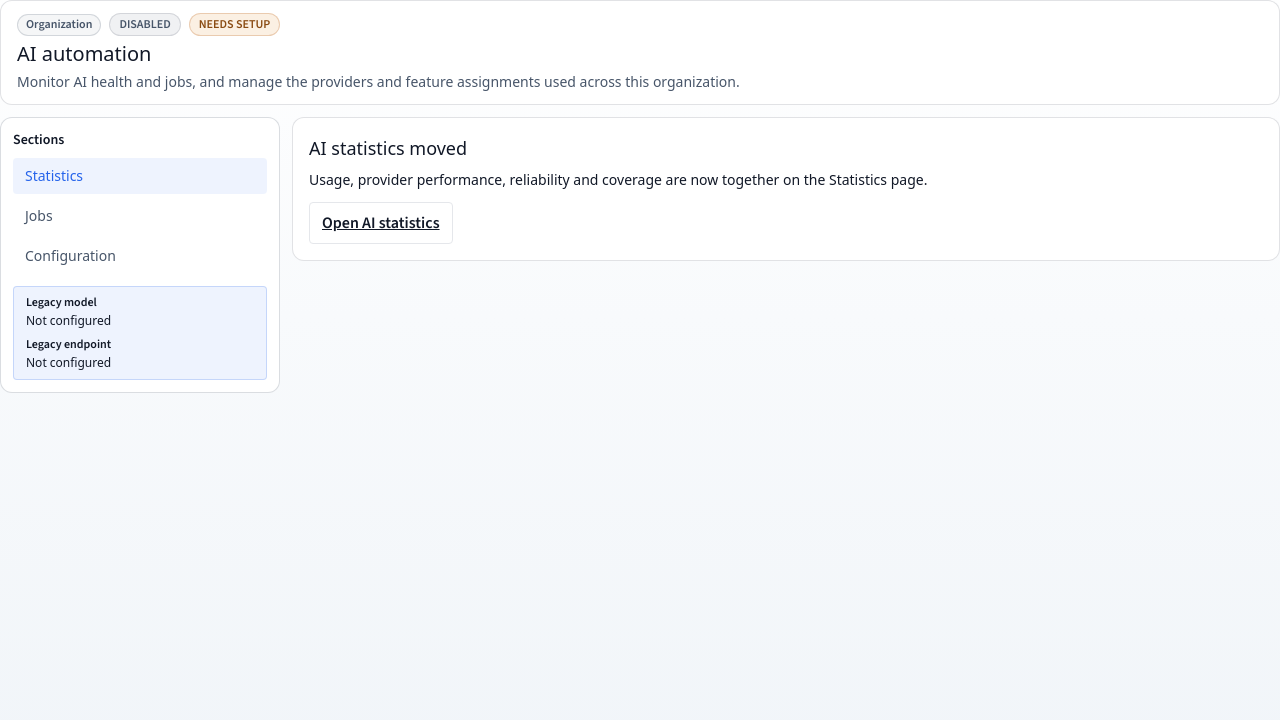
Test: AiSettingsPage DOM workflows › does not substitute draft defaults when saved settings are unavailable
The width and height of the screenshot is (1280, 720).
Click the tab "Configuration" at point(140, 256), box [13,238,267,274]
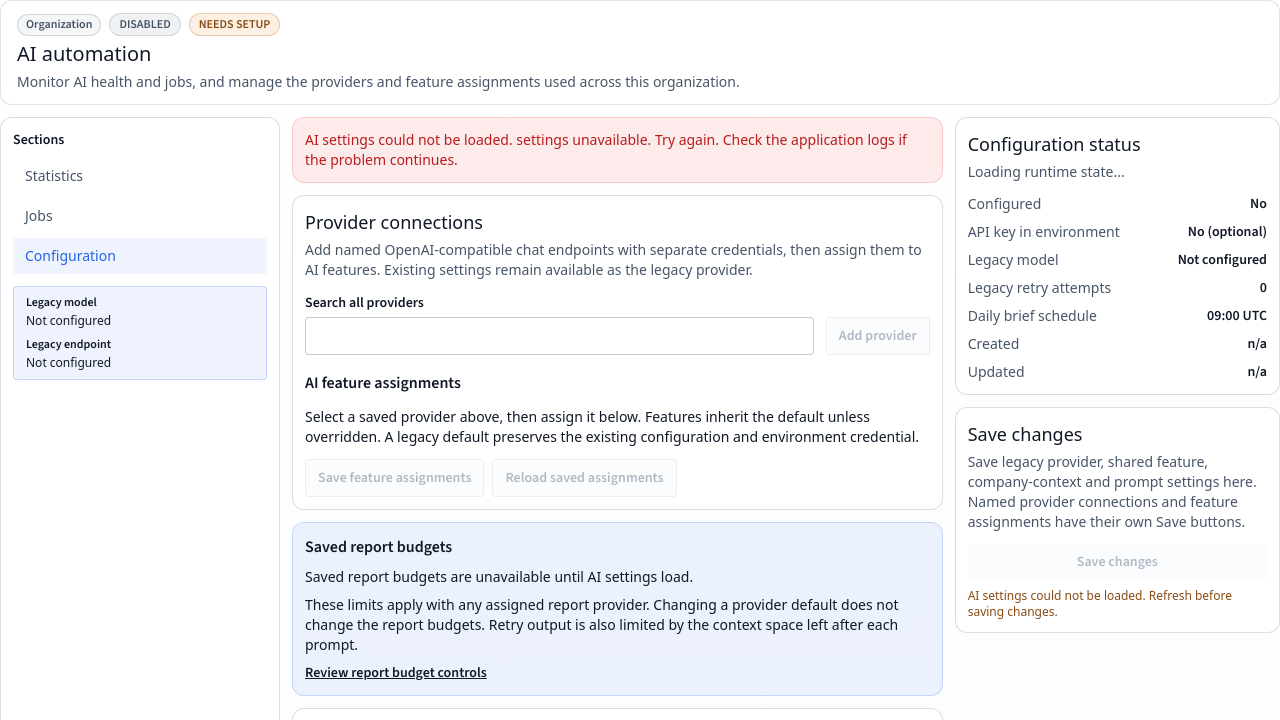
Expected: the element that starts with "Saved report budgets" shows "Saved report budgets are unavailable until AI settings load", [305,567,693,586]
